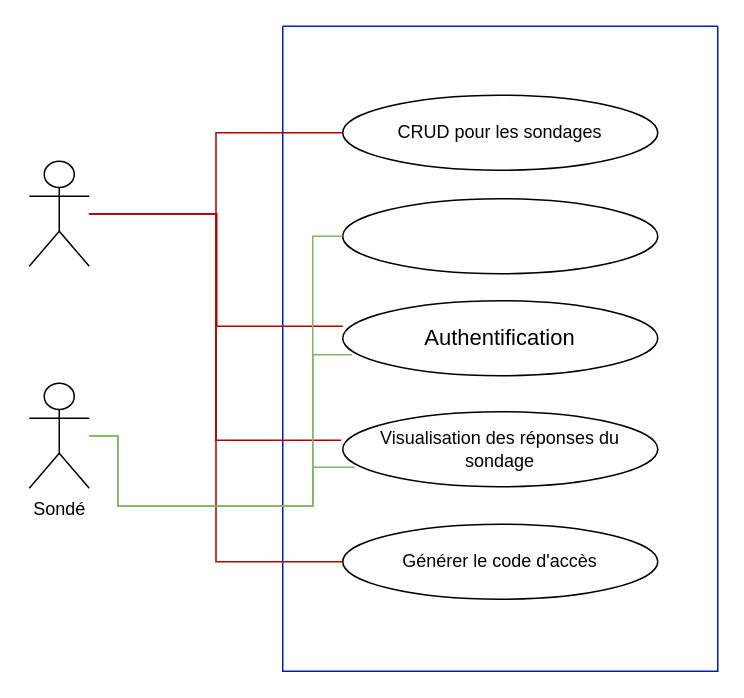
This 744x698 diagram has some shape labels left out. Each missing label, with the centre of its shape:
CRUD réponses aux sondages: point (499, 235)
Sondeur: point (58, 213)
